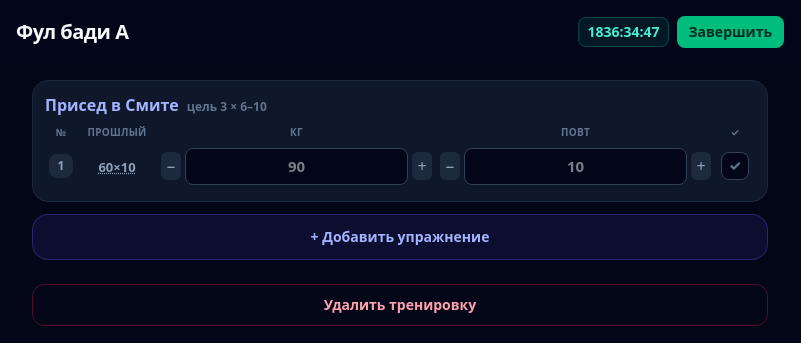
WorkoutLogger › степперы меняют вес на ±2.5
The image size is (801, 343).
Check: the text "Присед в Смите" is shown, box x1=45 y1=94 x2=179 y2=116
In the field named "вес": {"x": 297, "y": 166} x1=185 y1=148 x2=408 y2=184, type "80"
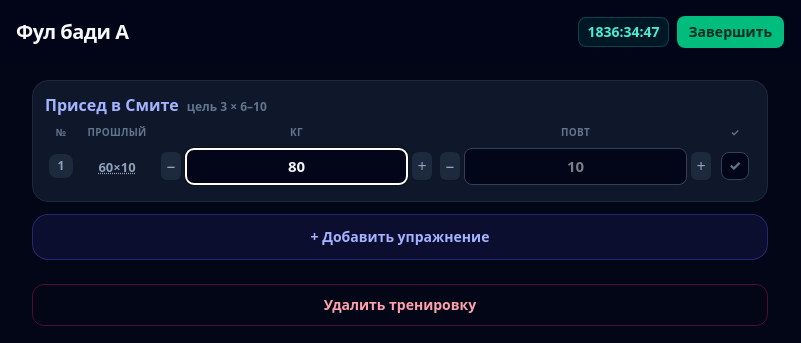
Click the button named "плюс": {"x": 422, "y": 166} x1=412 y1=152 x2=432 y2=180
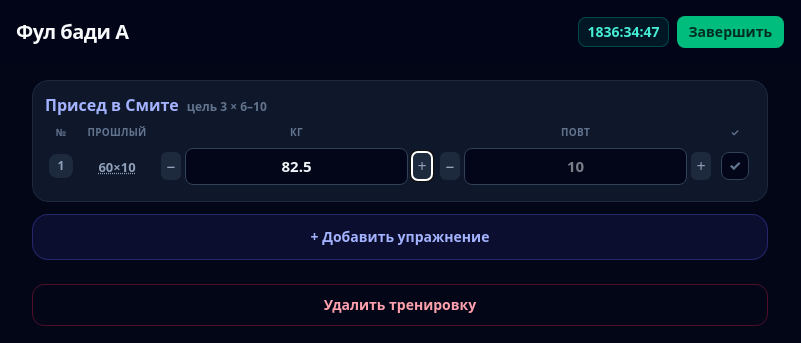
Check: the field named "вес" holds "82.5", box x1=185 y1=148 x2=408 y2=184
